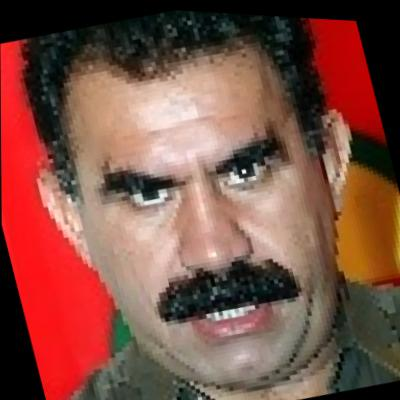angry: (47, 2, 368, 400)
